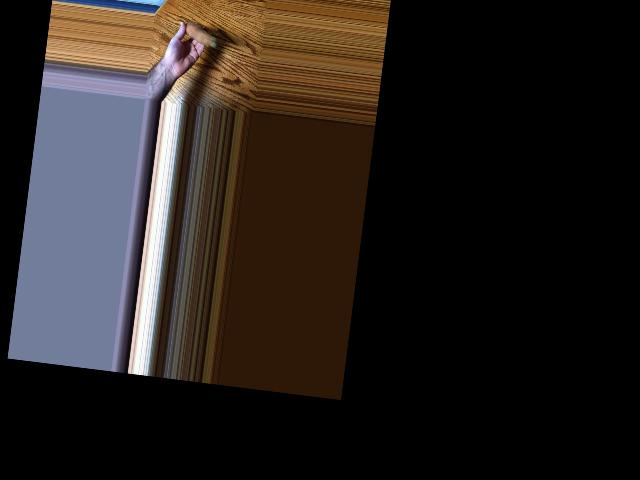sweet_potato: (180, 21, 219, 50)
